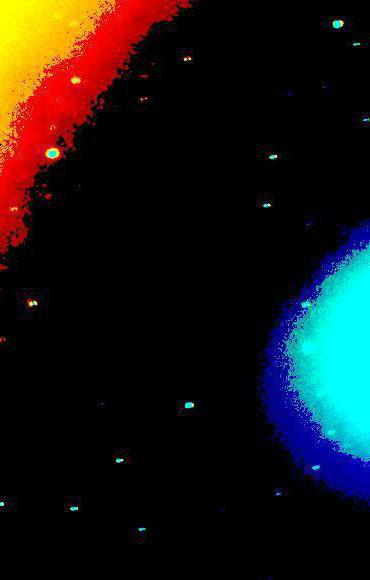star: (293, 165, 323, 195)
